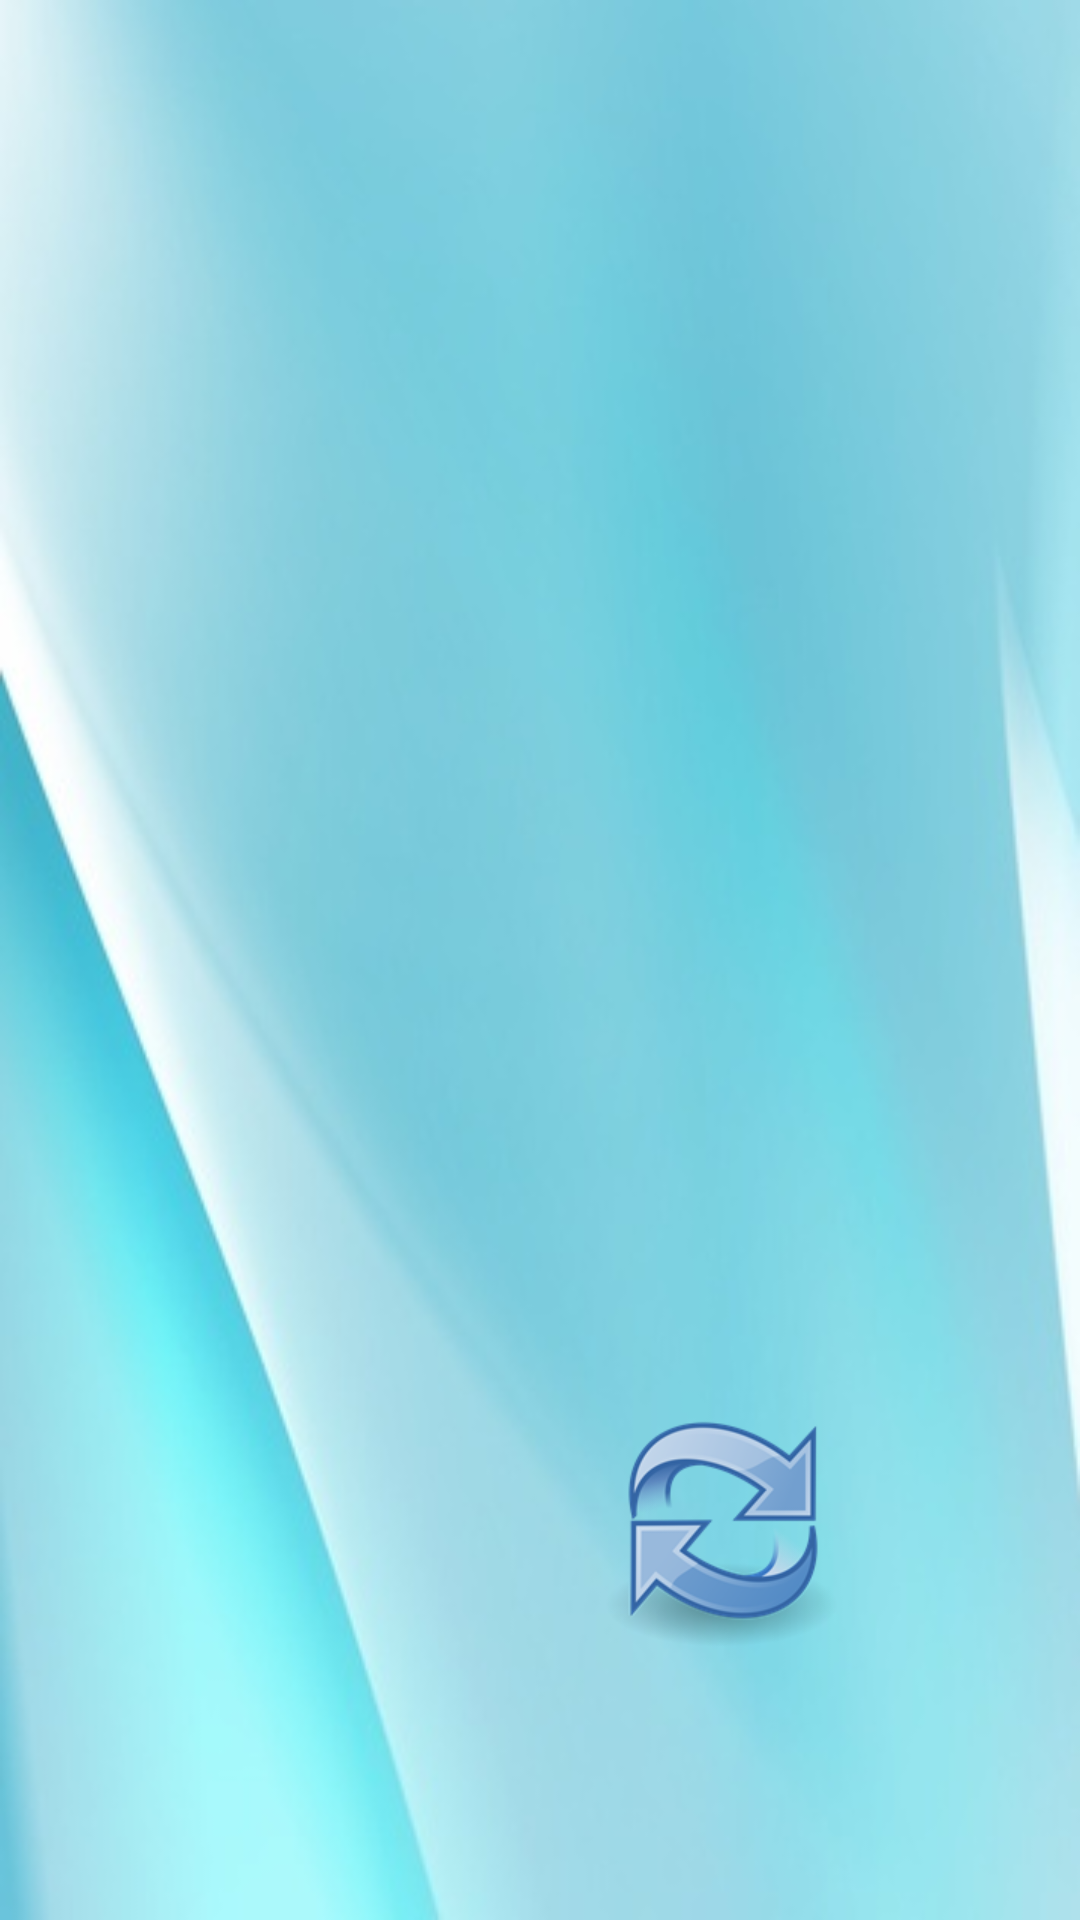

Locate icon controls on the screen. Image size 1080px x 1920px, boxes as (x1, y1, x2, y2).
refresh: (628, 1422, 818, 1639)
